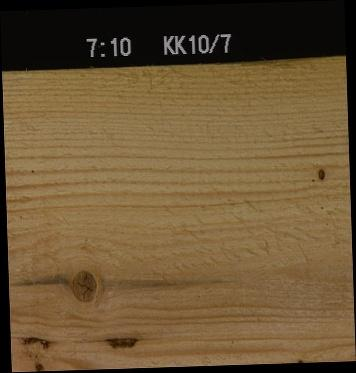dry_knot: (316, 166, 325, 182)
sound_knot: (70, 268, 95, 301)
